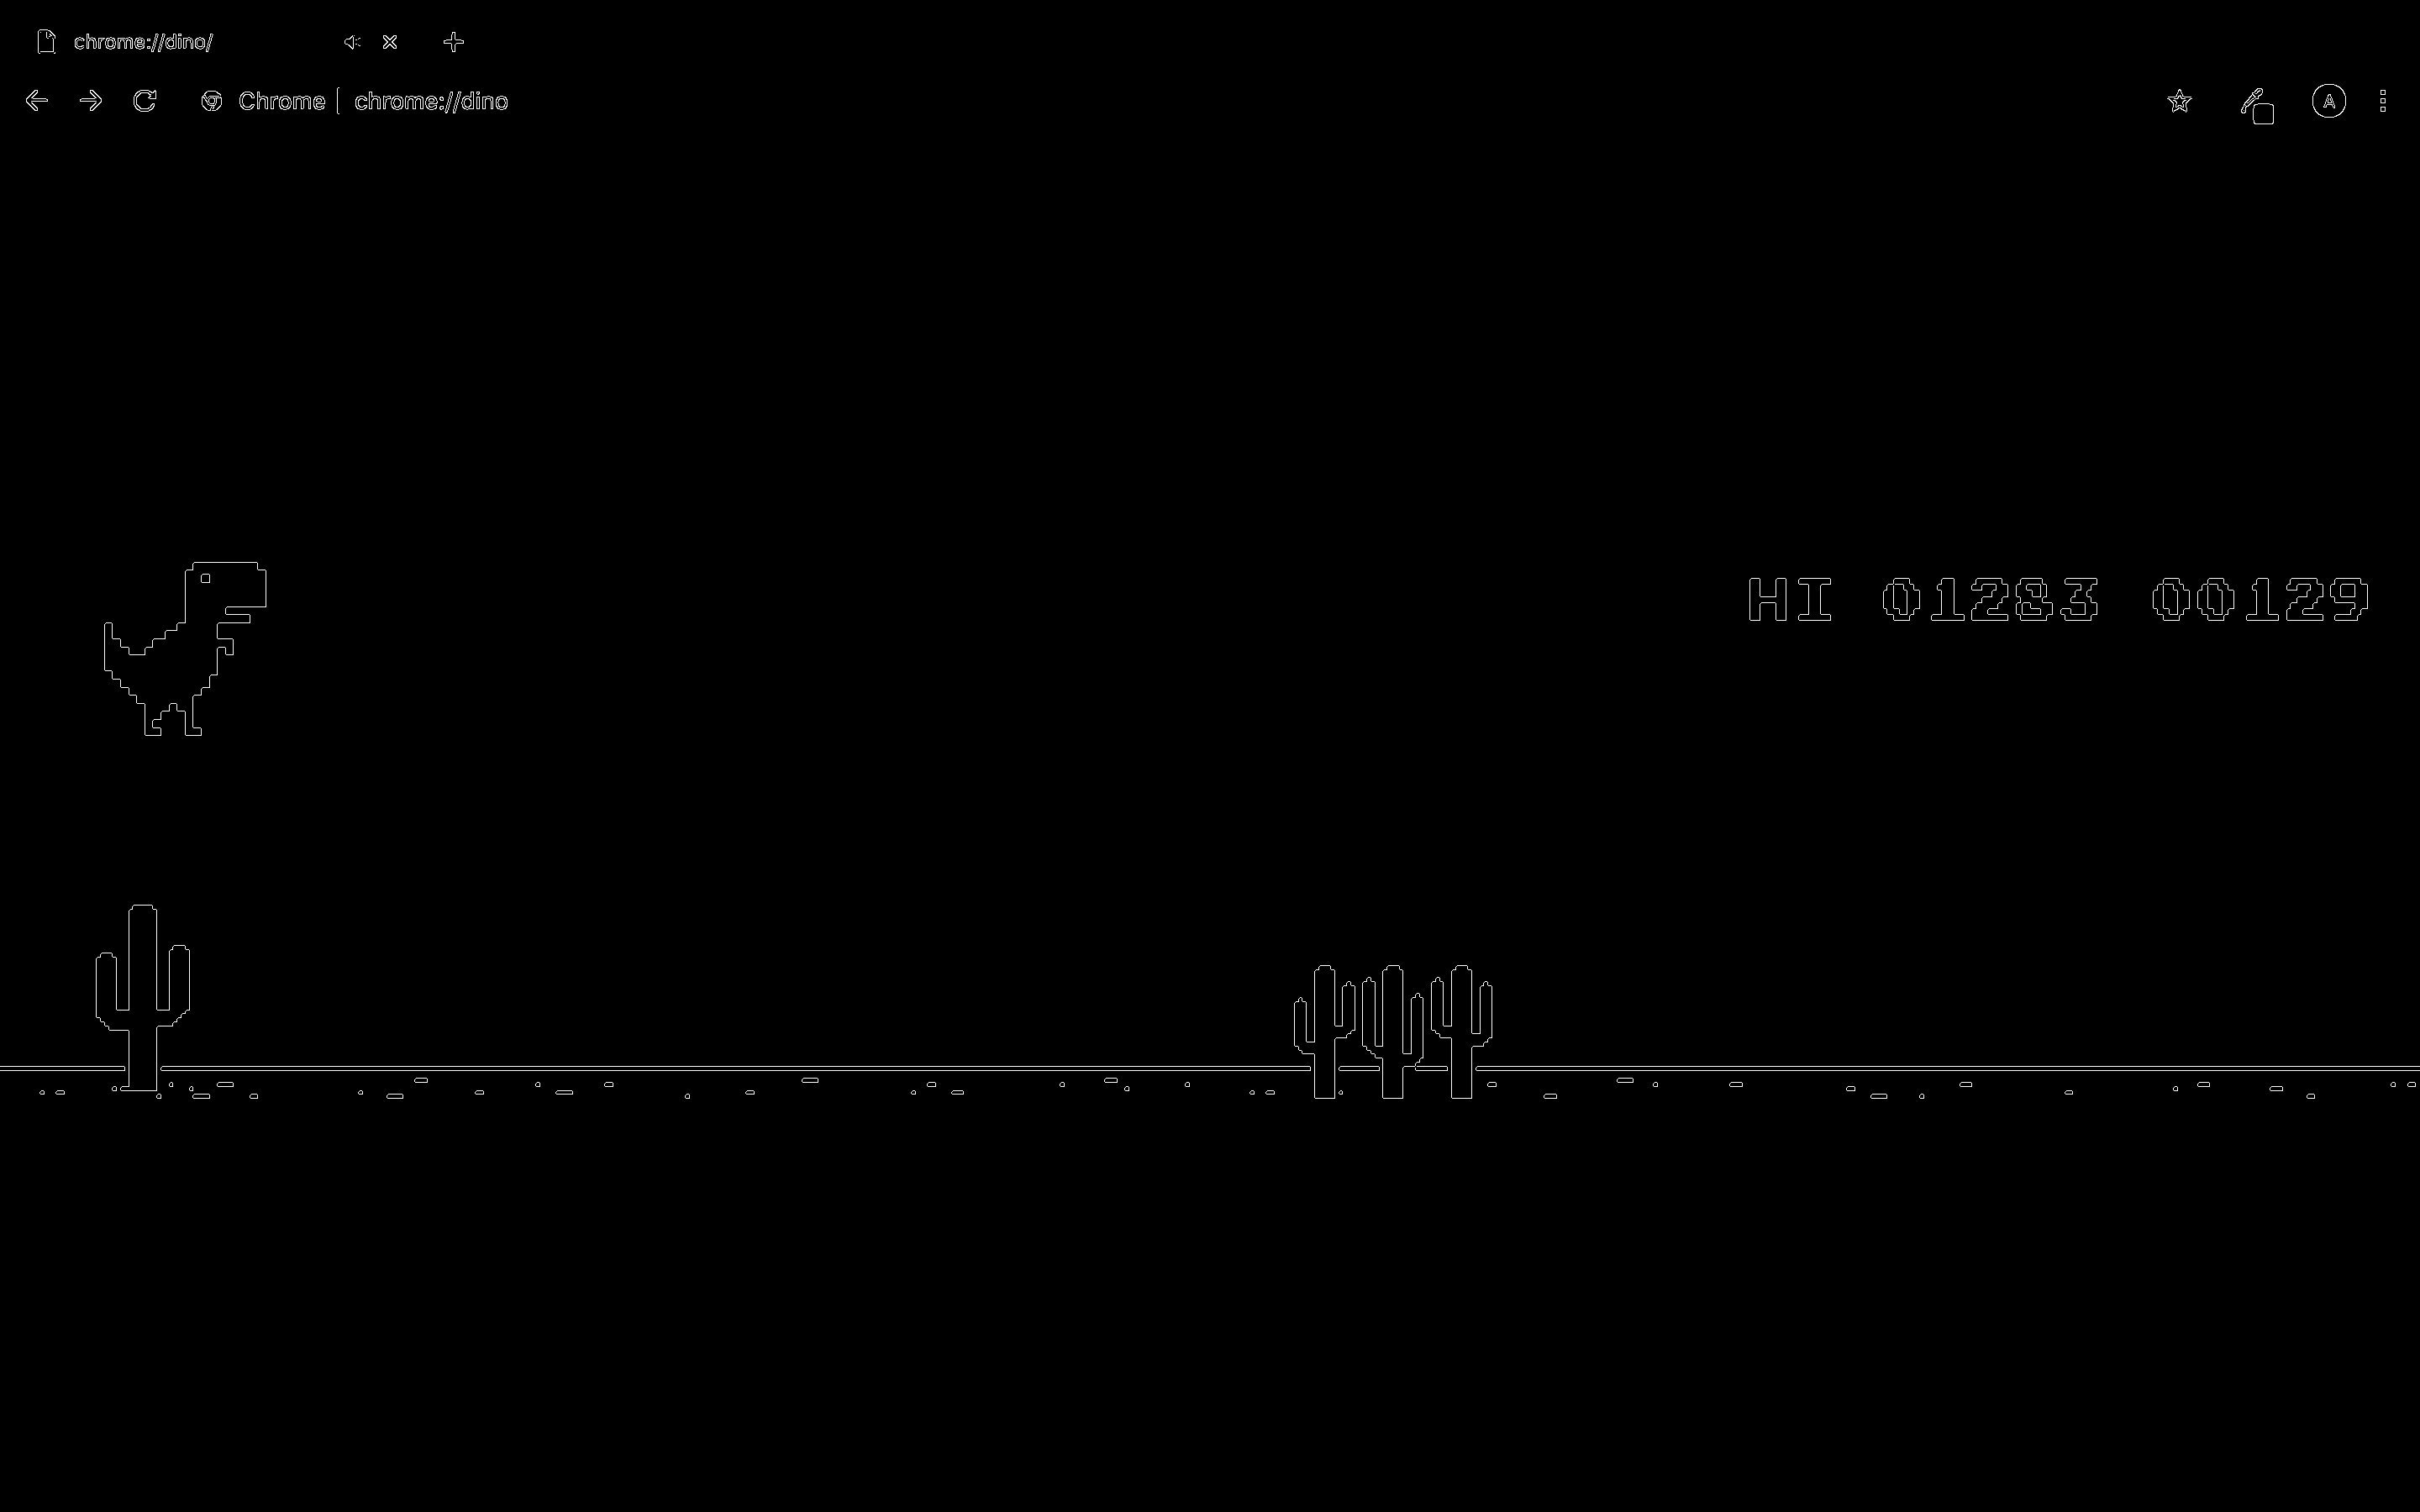Cactus: (85, 897, 209, 1103), (1361, 963, 1432, 1111), (1286, 963, 1357, 1108), (1436, 965, 1504, 1113)
Dino: (106, 556, 286, 740)
